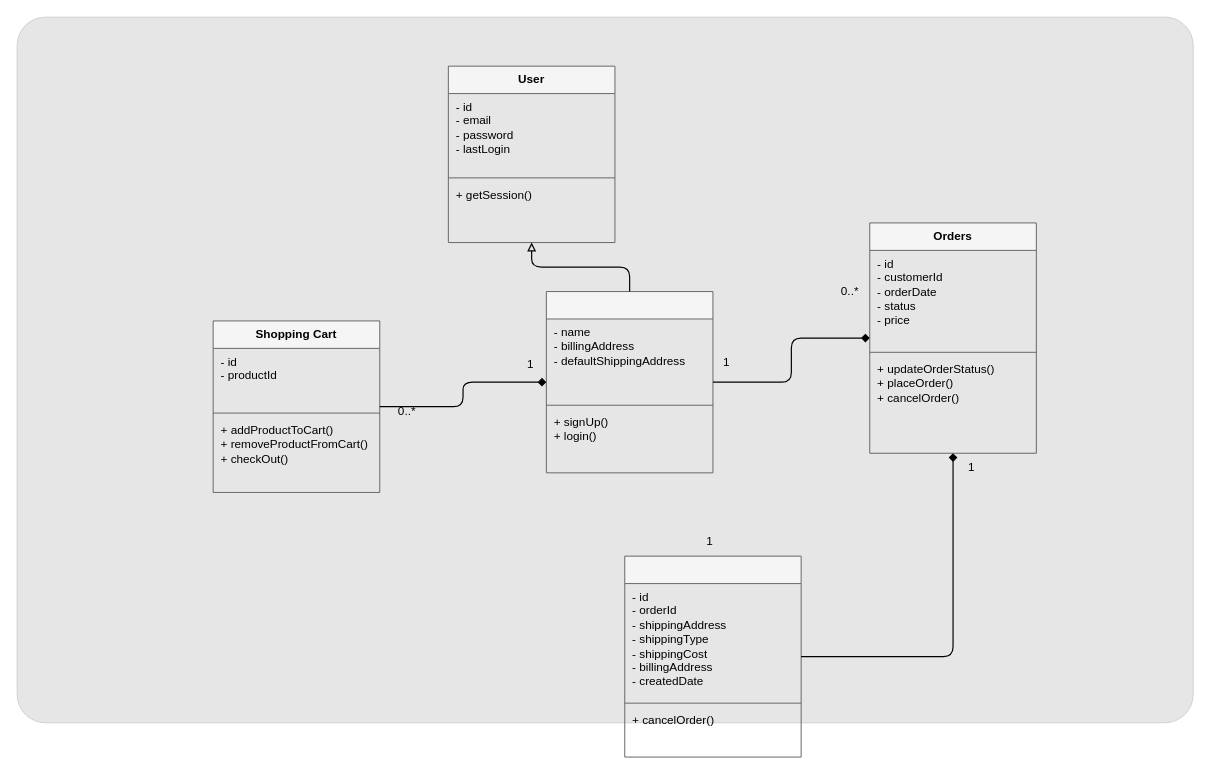
Image size: 1210x774. Some labels were removed from this diagram. The box of each missing label's shape, as (x1, y1, x2, y2) in pixels:
Customer: (545, 291, 713, 473)
Order Details: (624, 555, 801, 757)
